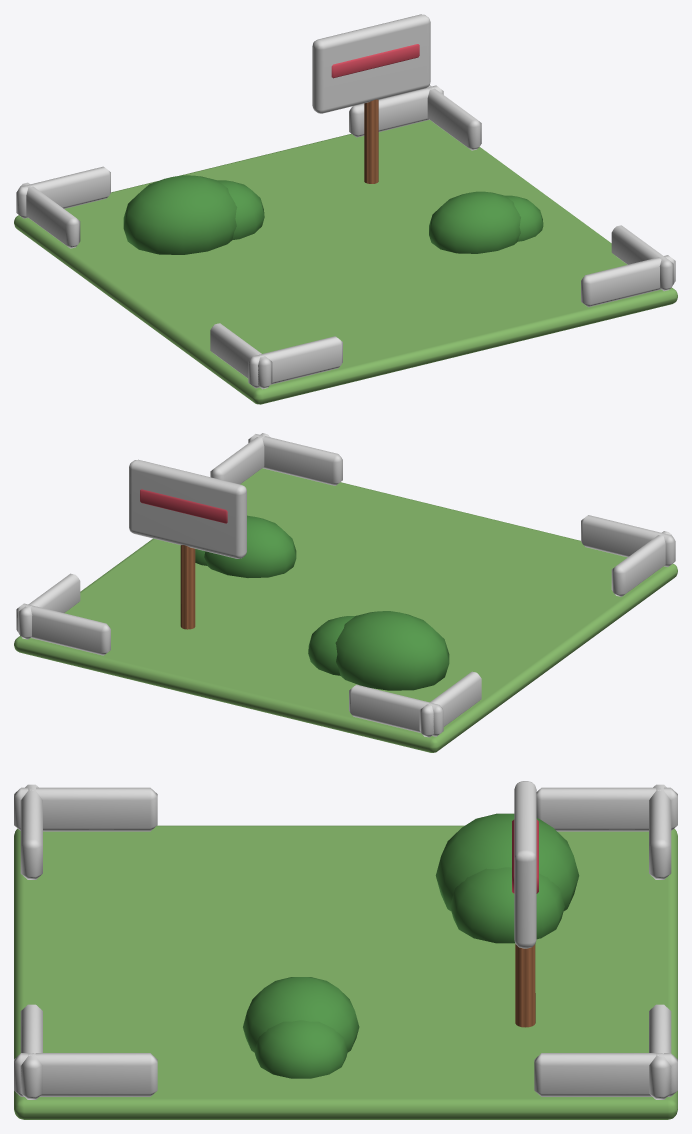
The model's file is lot.glb.
3 views of the same model, one above another, from view 1: azimuth 30°, elevation 25°; view 2: azimuth 150°, elevation 25°; view 3: azimuth 270°, elevation 25° (orthographic). The views are drawn at different scales.
Visible parts, largest first — view 1: Cube; view 2: Cube; view 3: Cube.
Boxes of the visible parts, x1,y1,x2,y2 form: Cube: (14, 14, 677, 404); Cube: (14, 433, 677, 752); Cube: (14, 781, 677, 1119).
Bounding box in the file's own units: 0.74 × 0.296 × 0.74.
